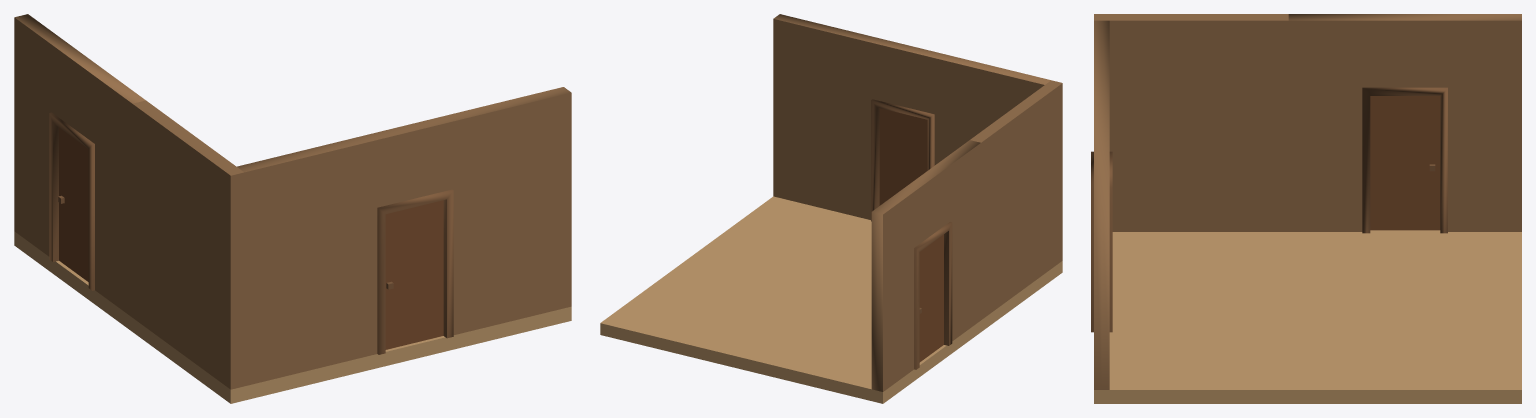
The model's file is Rooms.glb.
The picture shows the model from 3 angles, left to right: view 1: azimuth 30°, elevation 25°; view 2: azimuth 150°, elevation 25°; view 3: azimuth 270°, elevation 25°; orthographic projection. The views are drawn at different scales.
Visible parts, largest first — view 1: LeftWall, Wall, RightWall, Door (×2), Floor (×2), DoorFrame (×2); view 2: Floor (×2), LeftWall, RightWall, Wall, Door (×2), DoorFrame (×2); view 3: Floor (×2), Wall, RightWall, Door, LeftWall, DoorFrame (×2).
Part boxes in pixels (box(x1,y1,x2,y2)): LeftWall: box(237, 87, 571, 386); Wall: box(132, 100, 244, 389); RightWall: box(14, 14, 145, 317); Door (×2): box(59, 127, 443, 349); Floor (×2): box(14, 231, 571, 403); DoorFrame (×2): box(49, 112, 453, 354); Floor (×2): box(600, 196, 1062, 403); LeftWall: box(773, 14, 1050, 219); RightWall: box(871, 140, 980, 391); Wall: box(970, 80, 1062, 319); Door (×2): box(879, 108, 943, 362); DoorFrame (×2): box(871, 99, 952, 369); Floor (×2): box(1094, 230, 1521, 403); Wall: box(1094, 14, 1288, 231); RightWall: box(1288, 14, 1521, 231); Door: box(1370, 96, 1440, 230); LeftWall: box(1094, 20, 1109, 389); DoorFrame (×2): box(1091, 87, 1447, 332).
Bounding box in the file's own units: 5.04 × 3.2 × 5.54.
